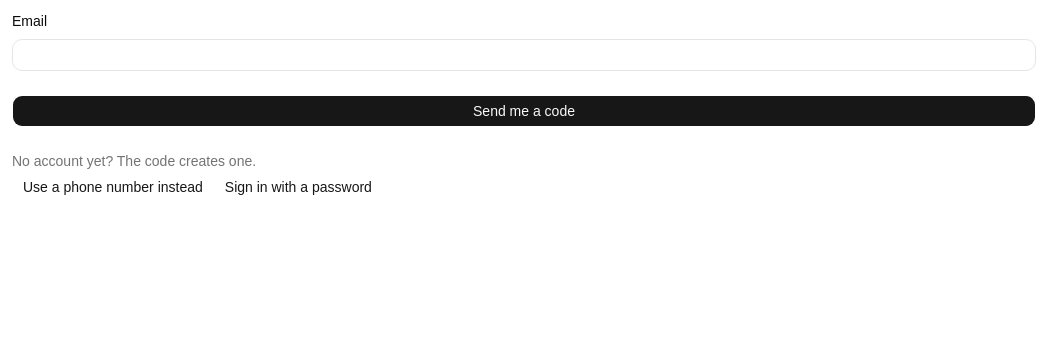
it: signing in with a code on the web › leads with the code, and keeps the password behind a link
Check: the button "Send me a code" is shown, box left=12, top=95, right=1036, bottom=127
Step 1. Click the button "Sign in with a password" → (298, 187), box left=214, top=171, right=383, bottom=203
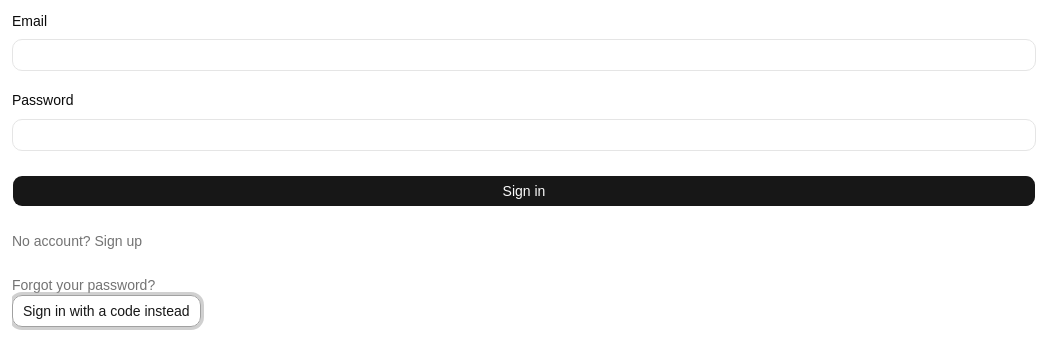
Check: the password field labelled "Password" is shown, box left=12, top=118, right=1036, bottom=150
